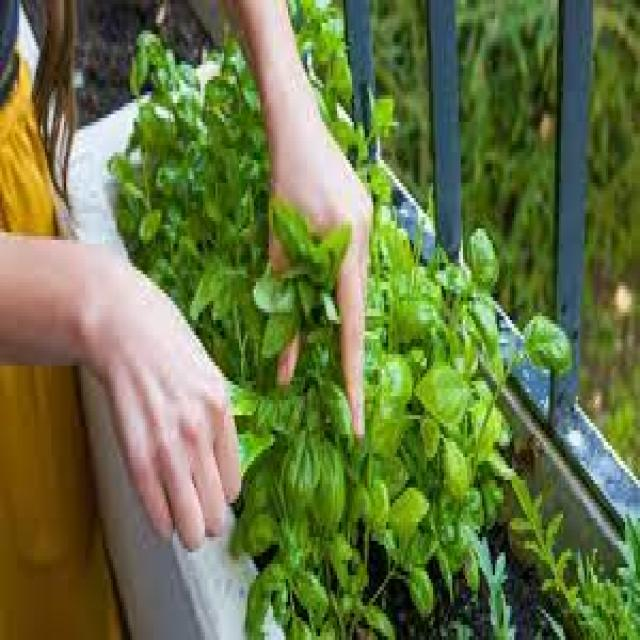healthy: (133, 2, 578, 636)
